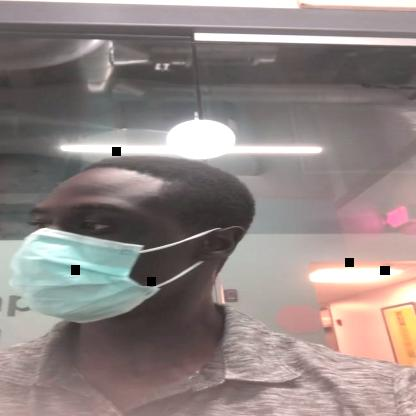mask: (10, 183, 245, 326)
